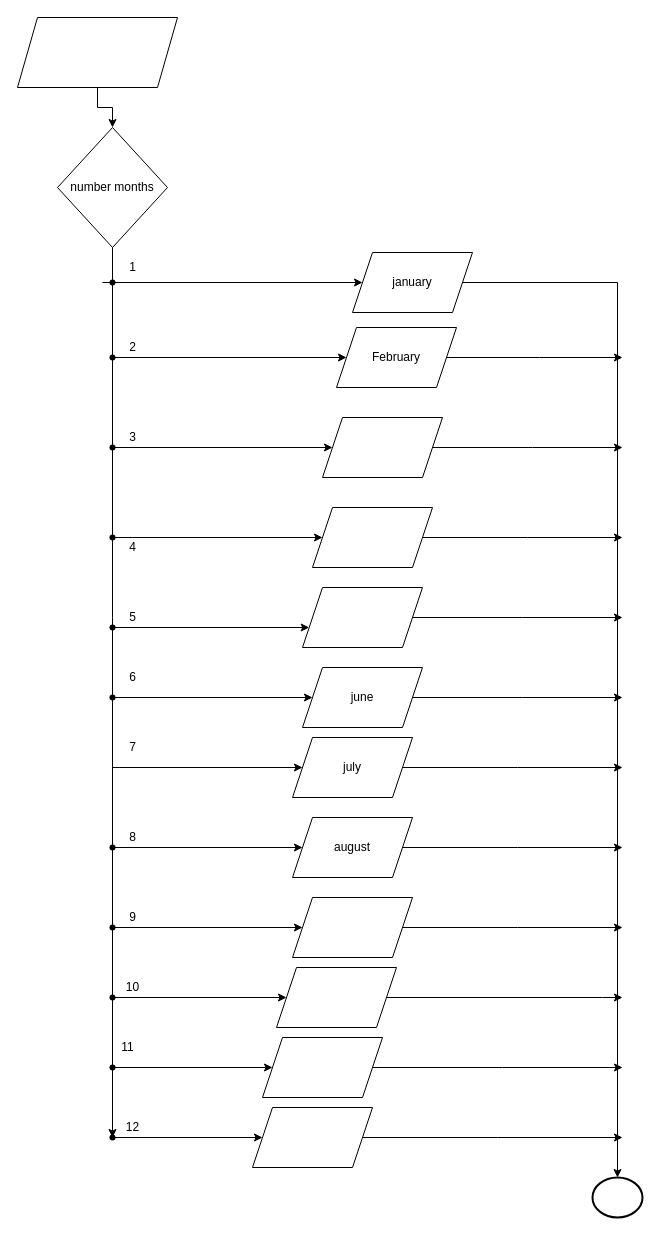
The diagram is 661 pixels wide and 1236 high, and some of its shapes have lost their labels. The shapes that lost their labels are listed below. From the top down, each one's centre as x and y in pixels, then its label:
the point at 97,52: input number of month
the point at 382,447: March
the point at 372,537: April
the point at 362,617: May
the point at 352,927: September
the point at 336,997: October
the point at 322,1067: November
the point at 312,1137: December
